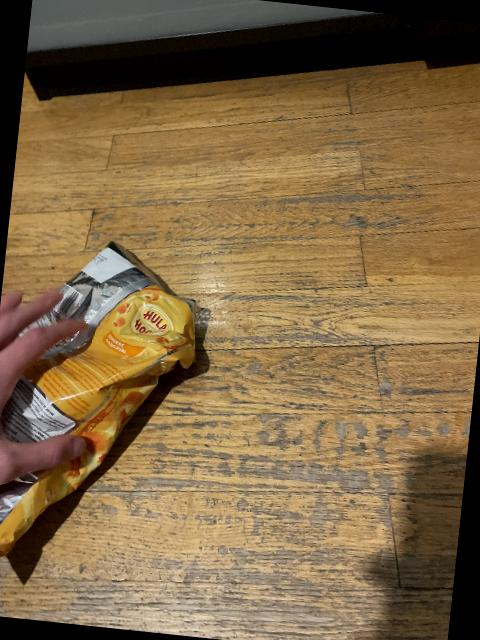Chio Hula Hoops Cheese 70g: (0, 230, 215, 603)
